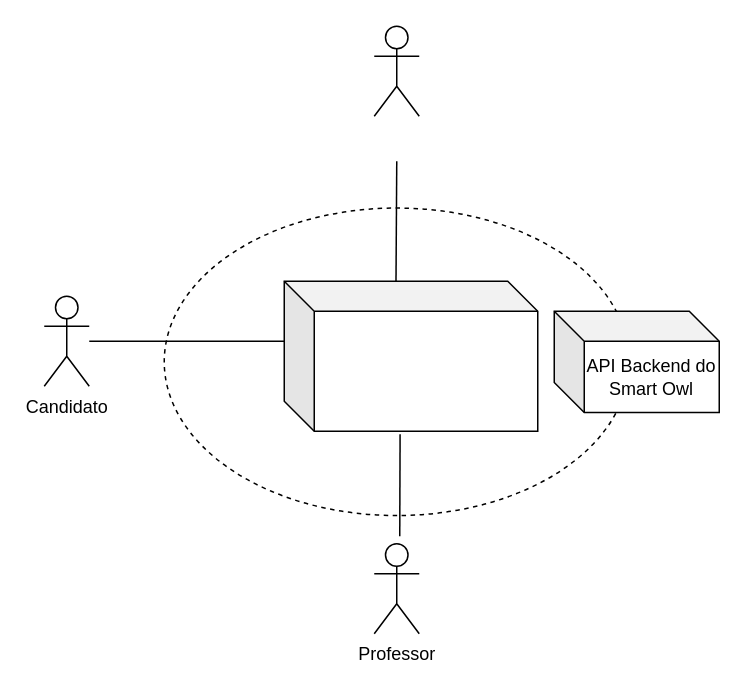
Image size: 746x692. Some labels were removed from this diagram. The centre of each missing label's shape, as x and y in pixels:
"Secretária" belongs at point 396,70.
"Smart Owl" belongs at point 410,355.
